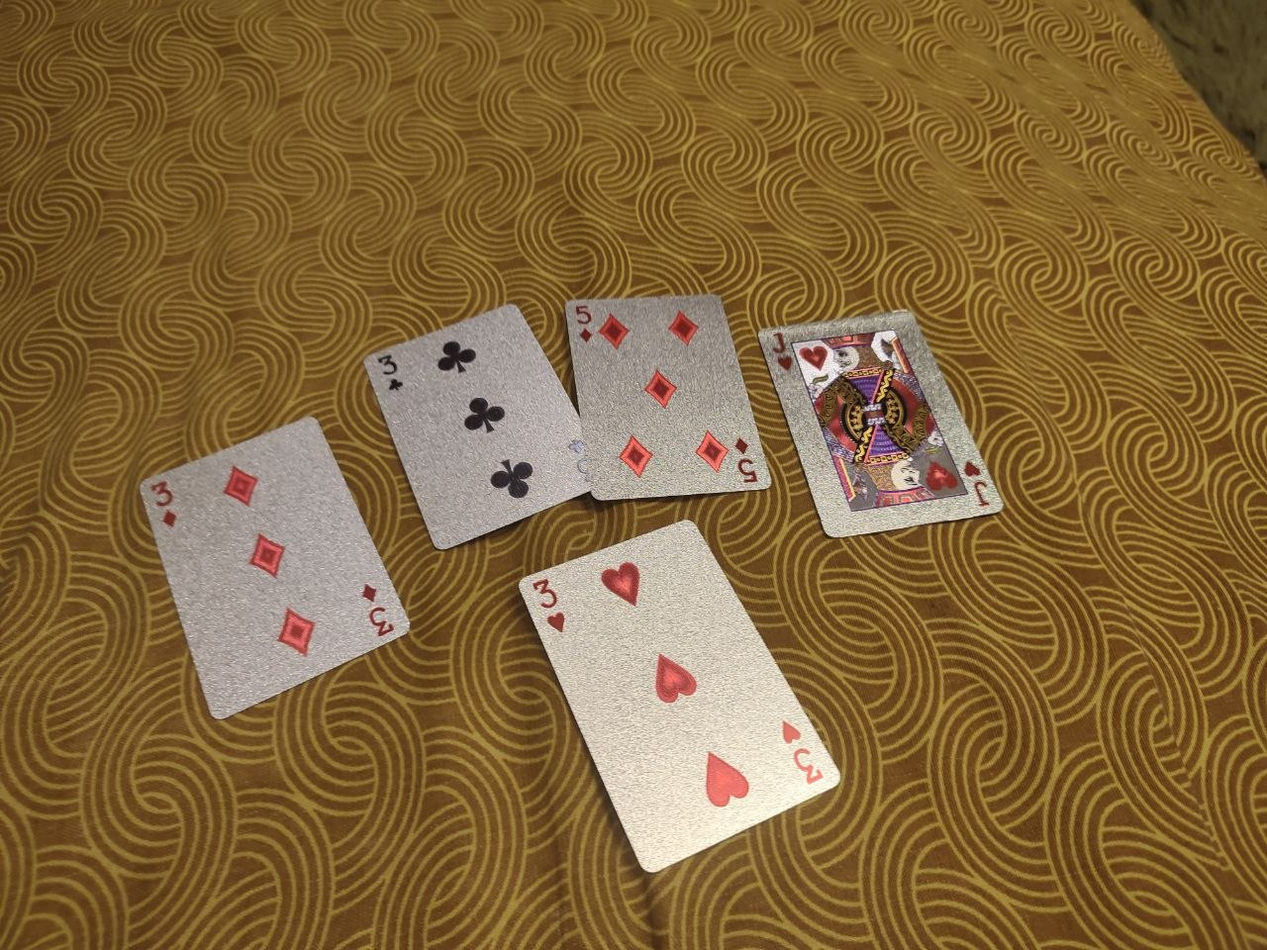3C: (362, 300, 594, 550)
3D: (139, 413, 411, 719)
3H: (519, 518, 842, 874)
5D: (563, 292, 772, 504)
JH: (757, 308, 1010, 540)
